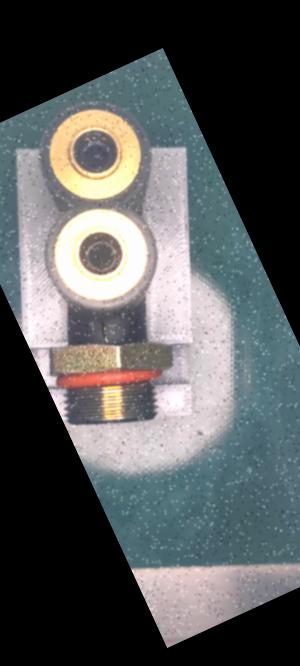craze: (93, 315, 117, 348)
